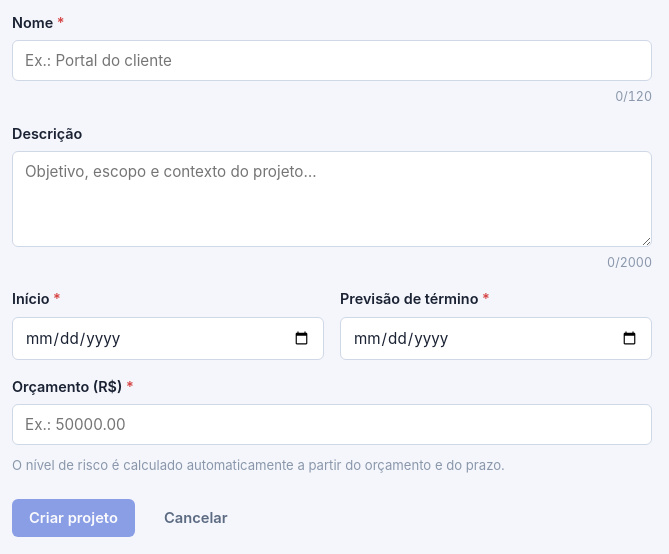
Test case: ProjectForm › habilita o envio quando todos os campos ficam válidos
Step 1. Type "Portal" into the field labelled "Nome *" → (332, 61), box [12,40,652,81]
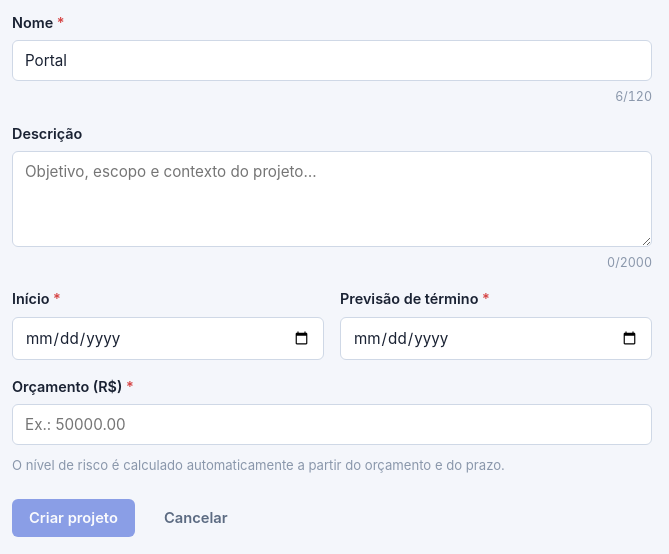
Step 2. Type "2026-01-01" into the date field labelled "Início *" → (168, 338), box [12,317,324,360]
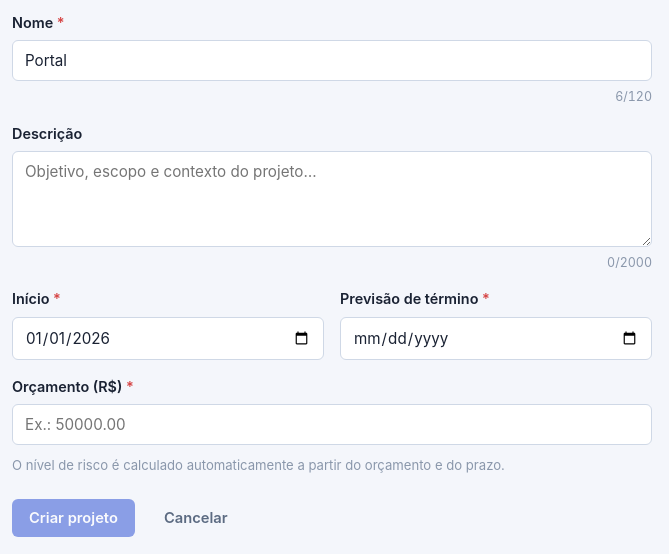
Step 3. Type "2026-06-01" into the date field labelled "Previsão de término *" → (496, 338), box [340,317,652,360]
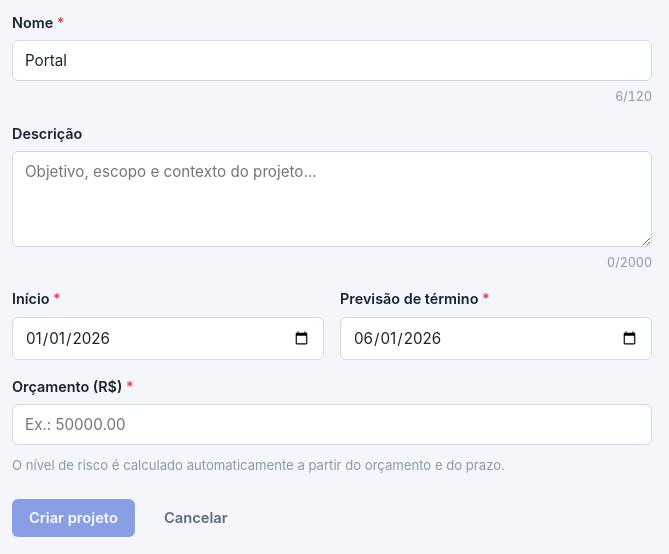
Step 4. Type "15000.50" into the number field labelled "Orçamento (R$) *" → (332, 424), box [12,404,652,445]
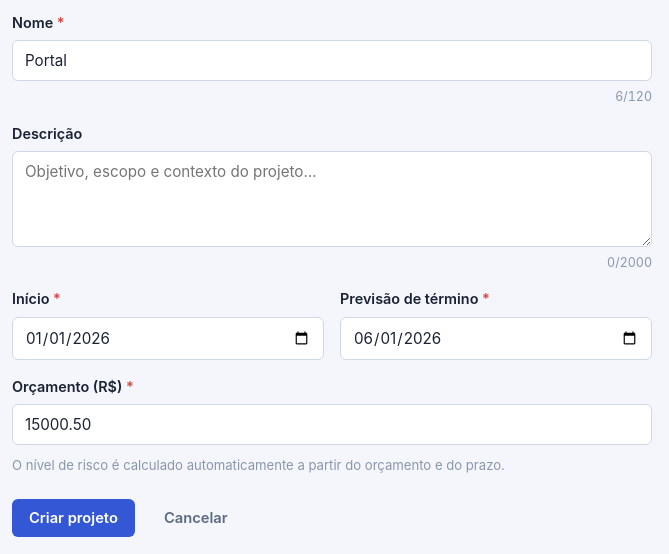
Expected: the button "Criar projeto" is enabled, [12,499,135,537]
